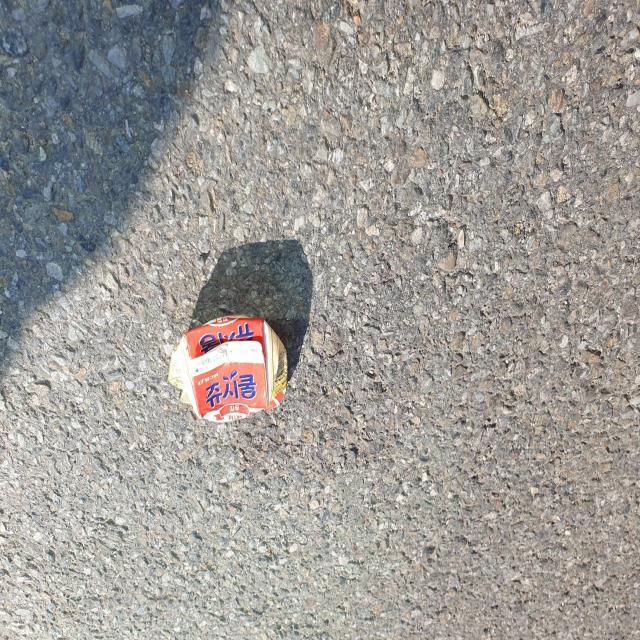paperpack: (168, 315, 287, 422)
